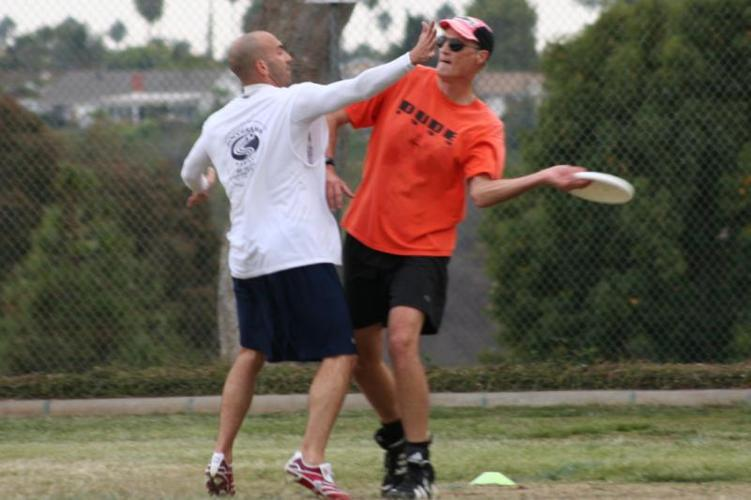person: (321, 16, 593, 500)
